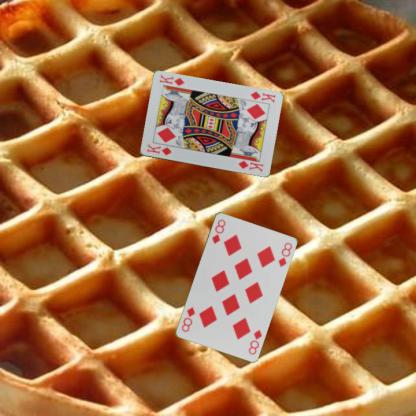8d: (209, 217, 227, 245), (245, 327, 263, 355)
Kd: (248, 89, 276, 105), (144, 142, 173, 156)
